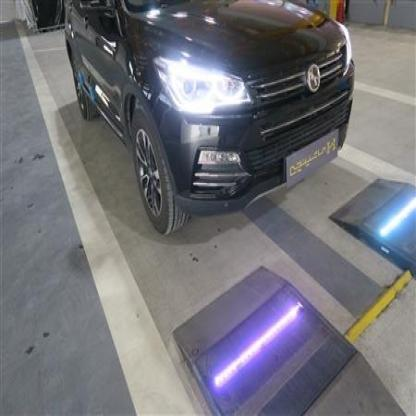Car: (58, 0, 364, 233)
